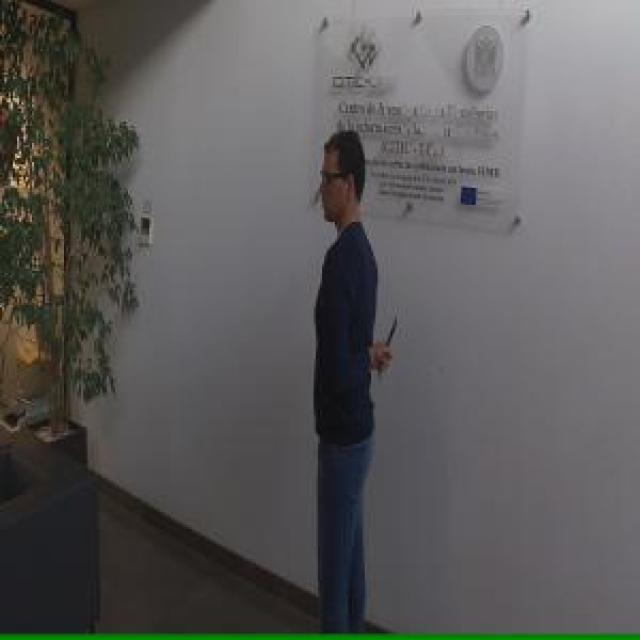knife: (375, 311, 400, 384)
